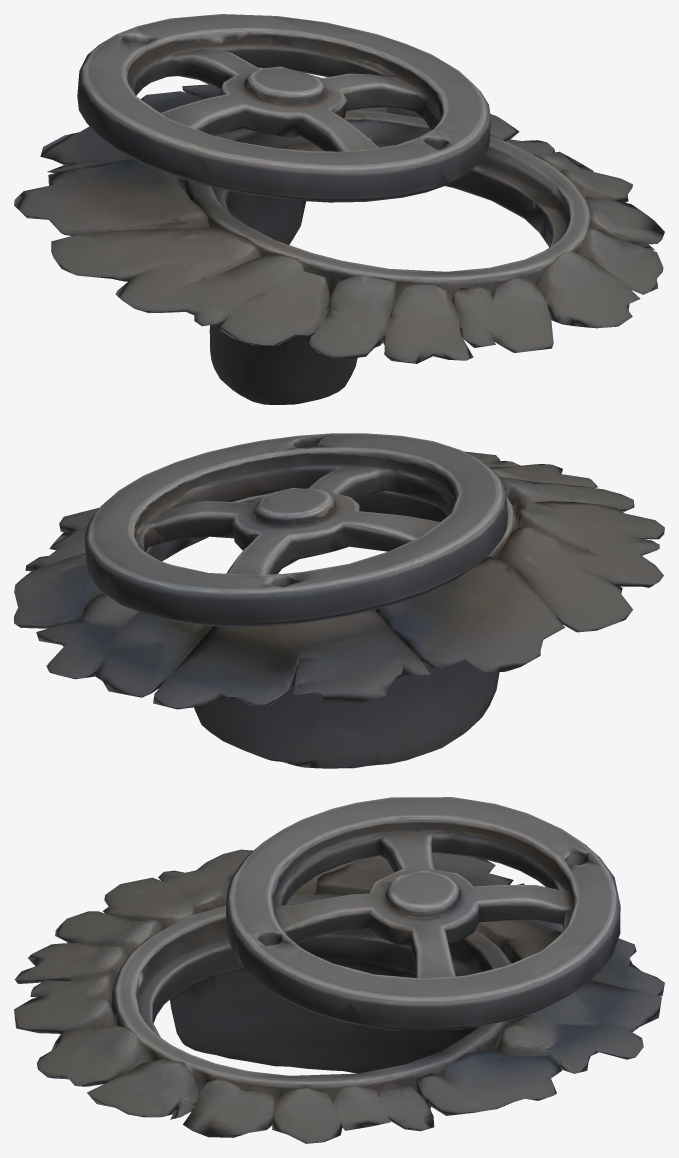
File: ObstaculoBuraco.glb
3 renders of one model, top to bottom at view 1: azimuth 30°, elevation 25°; view 2: azimuth 150°, elevation 25°; view 3: azimuth 270°, elevation 25°, orthographic. The views are drawn at different scales.
Parts seen in each view (by area): view 1: tripo_node_c288d319-f4cd-44a3-93fe-ccfe10bb80b6; view 2: tripo_node_c288d319-f4cd-44a3-93fe-ccfe10bb80b6; view 3: tripo_node_c288d319-f4cd-44a3-93fe-ccfe10bb80b6.
Boxes of the visible parts, bbox=[...] form: tripo_node_c288d319-f4cd-44a3-93fe-ccfe10bb80b6: bbox=[14, 14, 664, 404]; tripo_node_c288d319-f4cd-44a3-93fe-ccfe10bb80b6: bbox=[14, 433, 664, 768]; tripo_node_c288d319-f4cd-44a3-93fe-ccfe10bb80b6: bbox=[14, 797, 664, 1143].
Bounding box in the file's own units: 0.6812 × 0.3 × 0.7249.
Materials: 1 (1 with a texture image).
